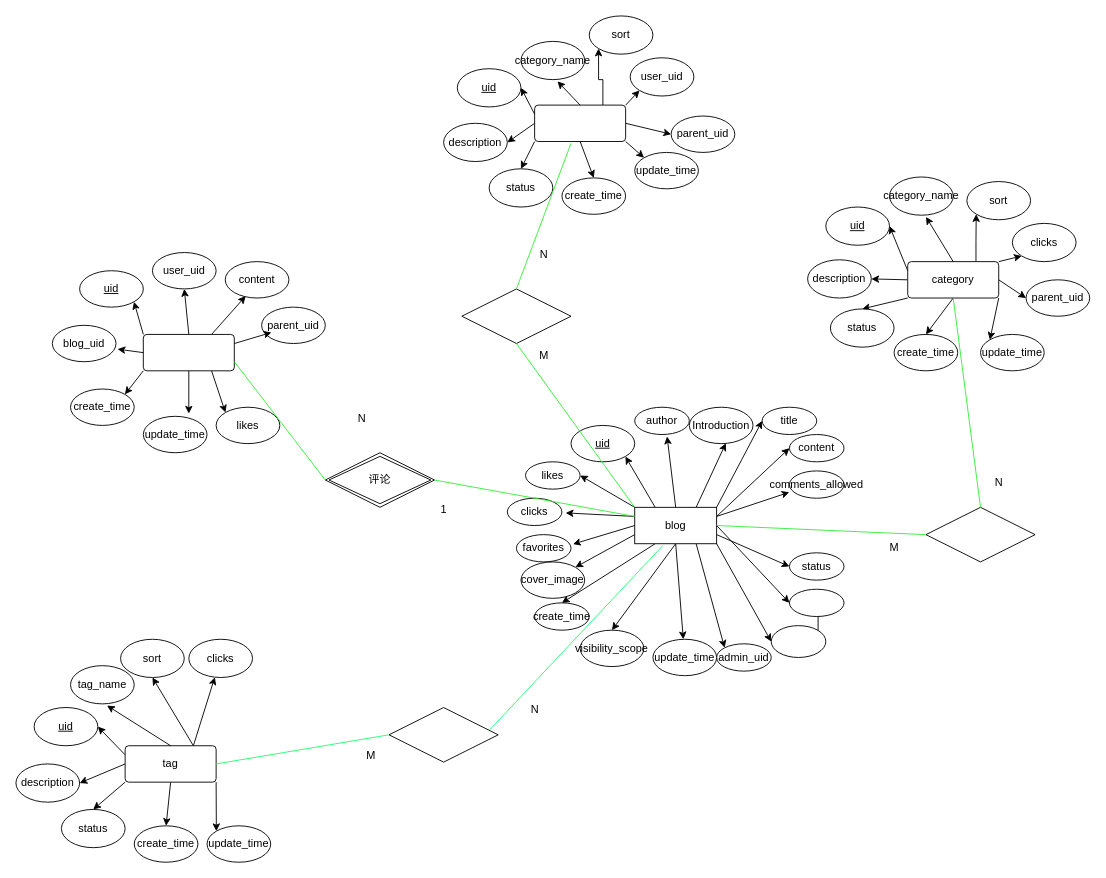
The diagram is 1106 pixels wide and 878 high, and some of its shapes have lost their labels. Here are the shapes that lost their labels. From the top down, the box of each, then its label:
(534, 104, 626, 142): user_category
(461, 288, 571, 344): 用户自定义分类
(142, 334, 234, 371): comment
(925, 506, 1035, 562): 系统分类
(789, 588, 844, 617): is_original
(770, 625, 826, 657): original_url
(388, 707, 498, 762): 做标签
